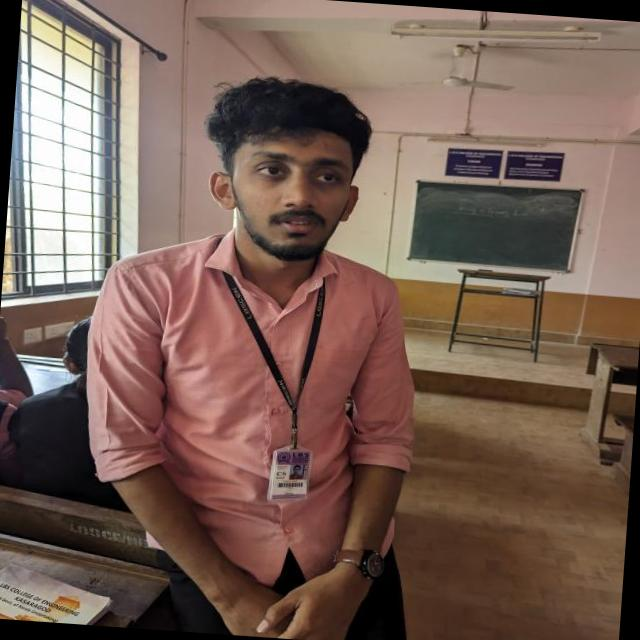id_card: (217, 249, 338, 502)
